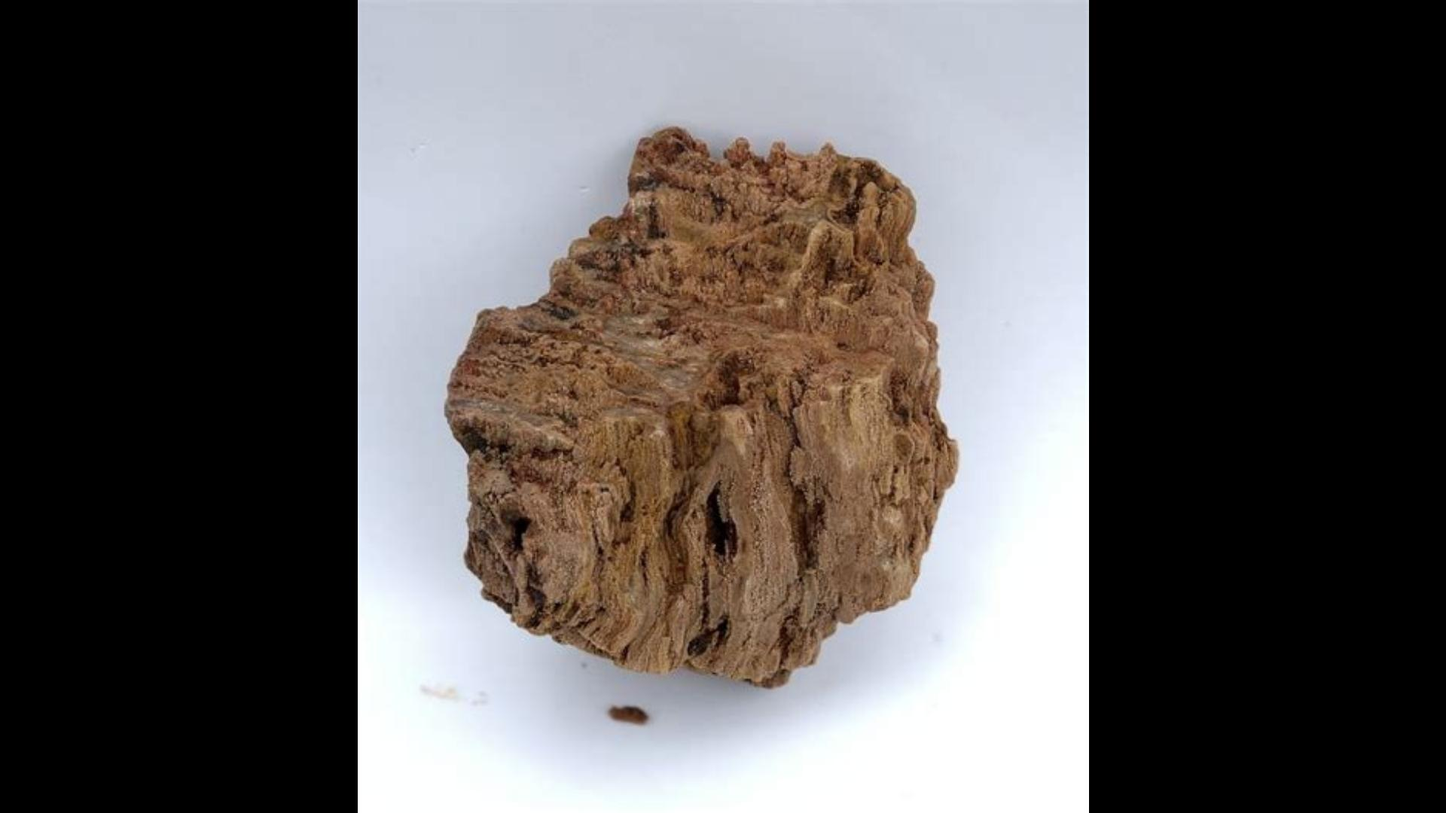rock: (446, 128, 956, 683)
